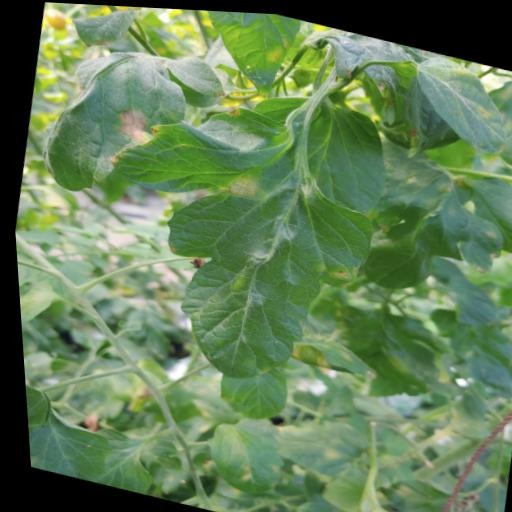Leaf Mold: (67, 71, 399, 405), (26, 20, 238, 222), (351, 130, 512, 308), (399, 43, 512, 154), (191, 402, 289, 498)
